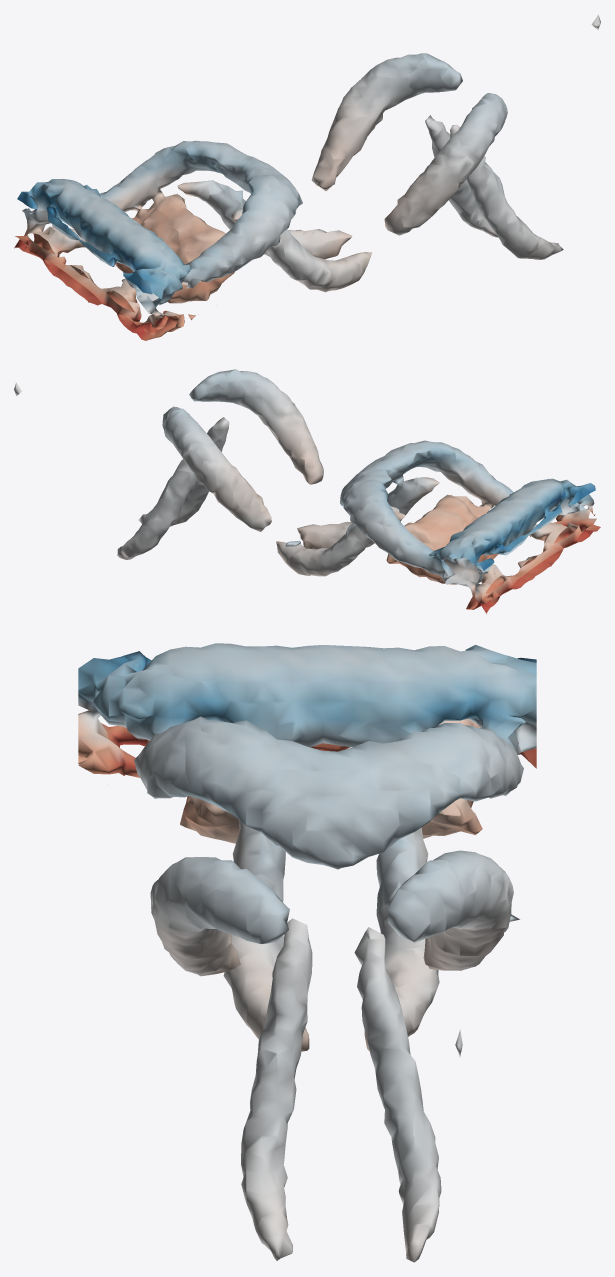
3 views of the same model, one above another, from view 1: azimuth 30°, elevation 25°; view 2: azimuth 150°, elevation 25°; view 3: azimuth 270°, elevation 25° (orthographic). The views are drawn at different scales.
Bounding box in the file's own units: 6.2 × 2.04 × 2.5.
